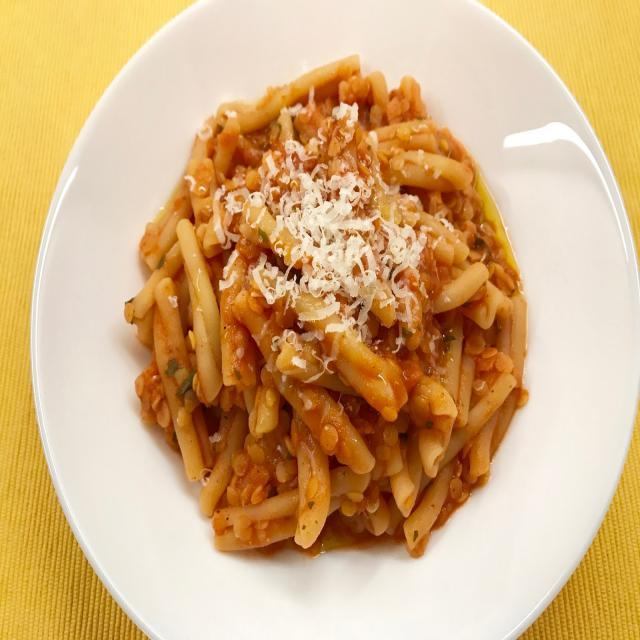Pasta al ragu: (98, 42, 558, 575)
